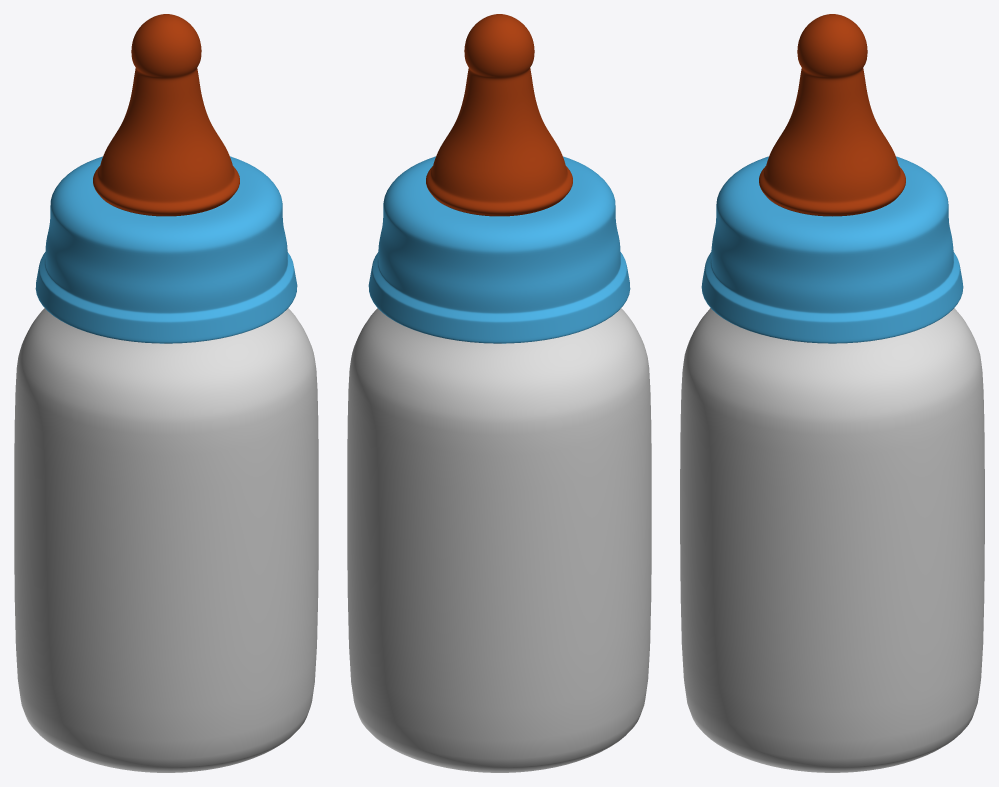
The model's file is BabyBottle.fbx.
The picture shows the model from 3 angles, left to right: view 1: azimuth 30°, elevation 25°; view 2: azimuth 150°, elevation 25°; view 3: azimuth 270°, elevation 25°; orthographic projection.
Visible parts, largest first — view 1: Baby Bottle.001; view 2: Baby Bottle.001; view 3: Baby Bottle.001.
Boxes of the visible parts, bbox=[...] form: Baby Bottle.001: bbox=[14, 14, 318, 772]; Baby Bottle.001: bbox=[347, 14, 651, 772]; Baby Bottle.001: bbox=[680, 14, 984, 772].
Size of the model in its own units: 5.66 by 14.65 by 5.66.
